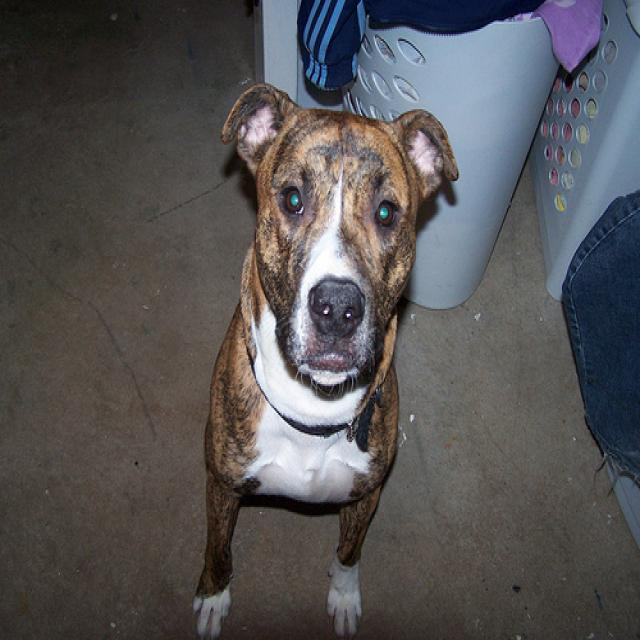dog-american_pit_bull_terrier: (184, 75, 462, 637)
